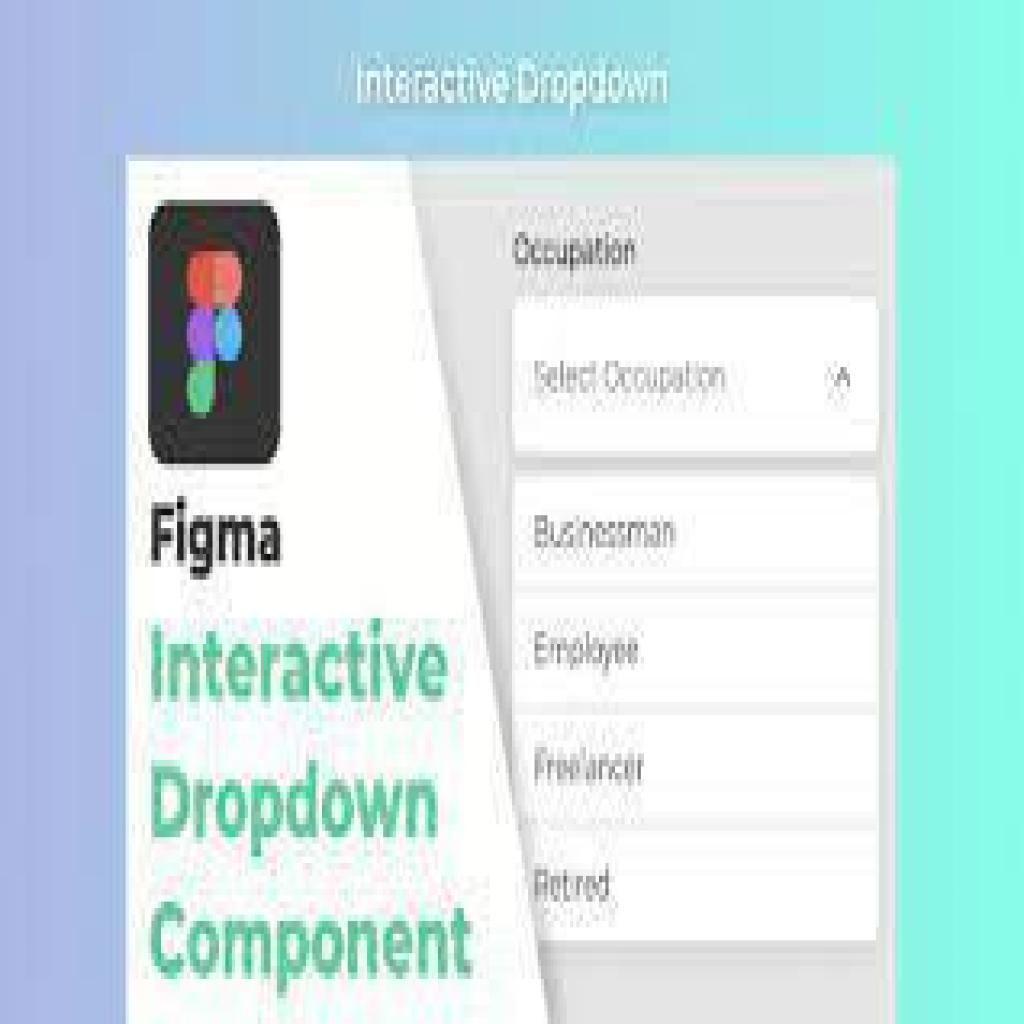button: (515, 586, 879, 708), (515, 476, 879, 592), (512, 708, 879, 818), (525, 824, 876, 934)
dropdown: (512, 296, 879, 451)
